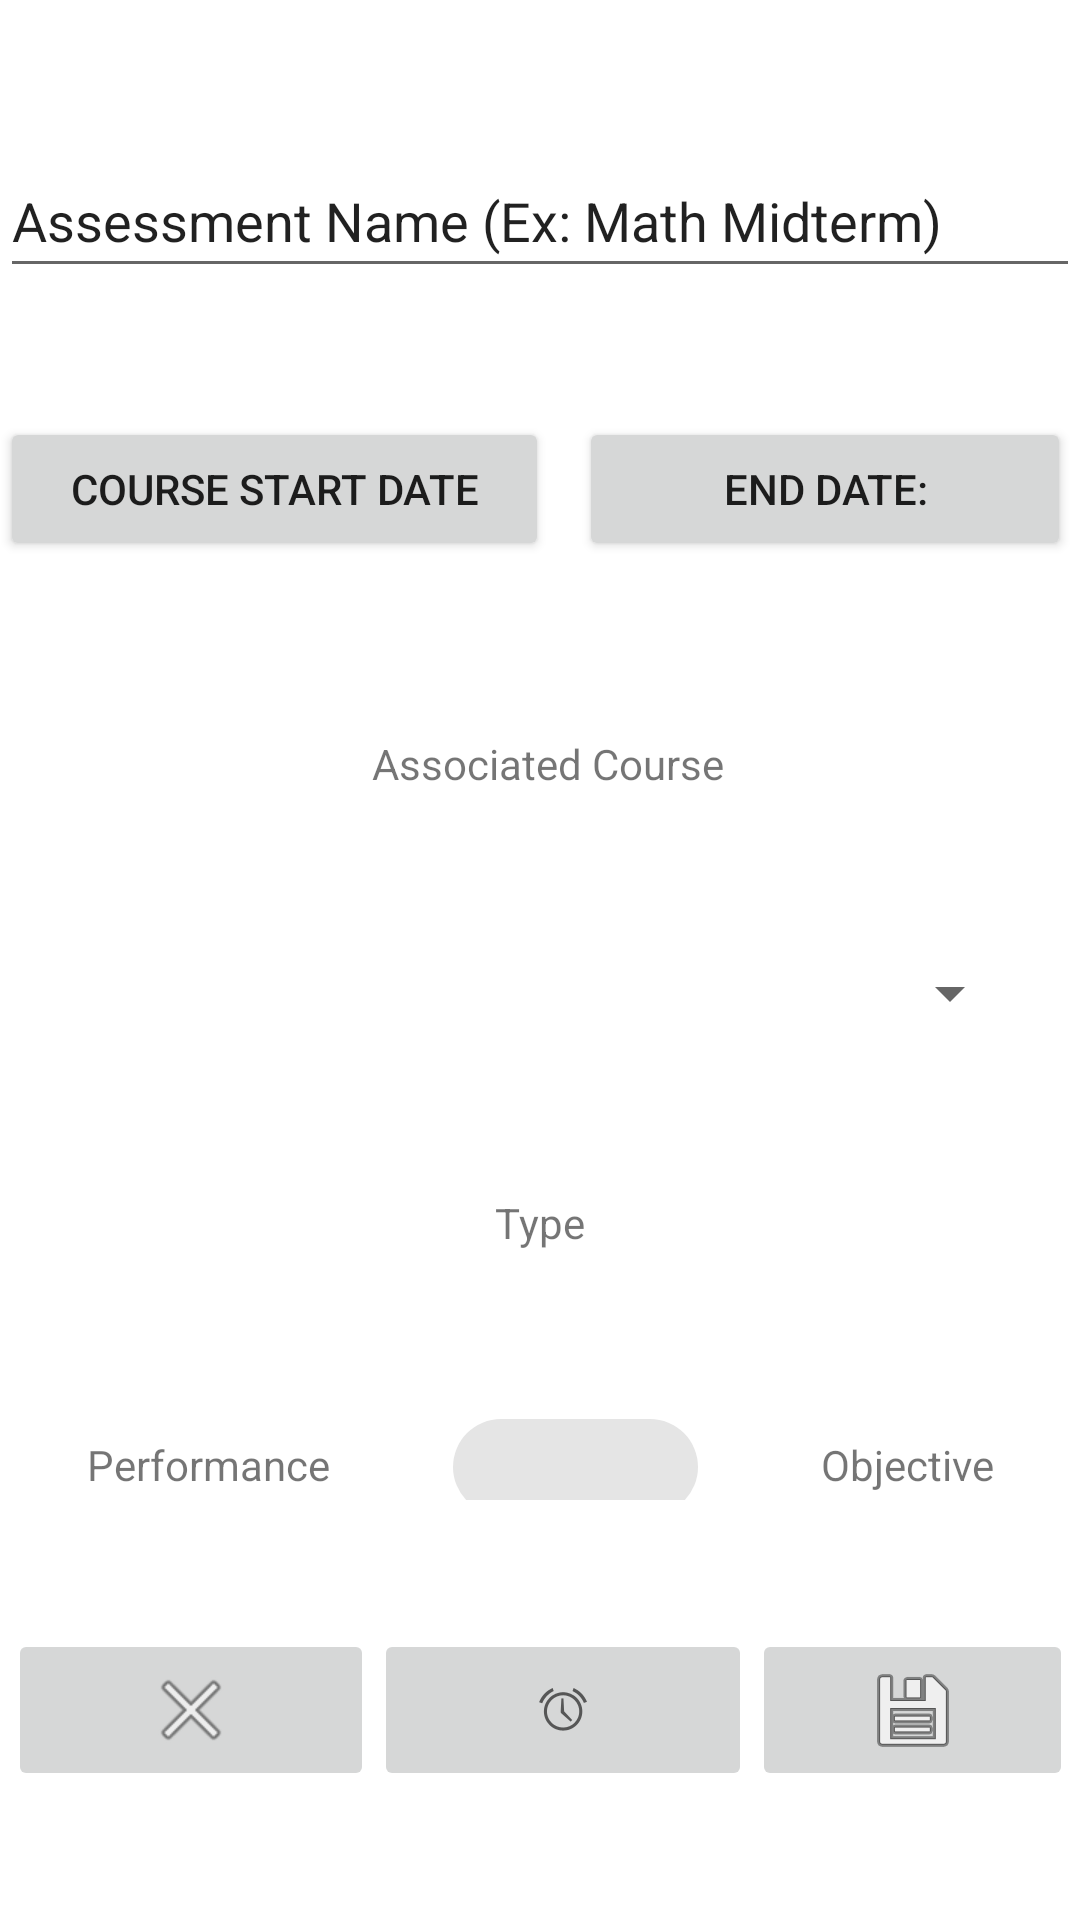

Icons on this 1080*1920 Android screen, each with its box as (x1, y1, x2, y2):
Close the Add Assessment Screen: (20, 1647, 362, 1773)
Set Notification: (386, 1647, 740, 1773)
